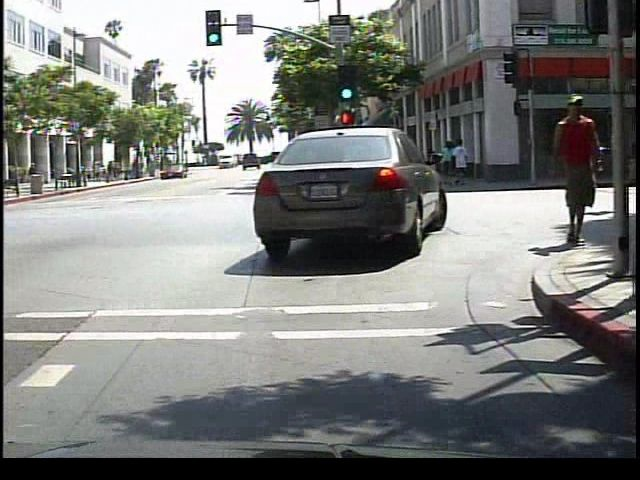person: (537, 89, 602, 258), (21, 158, 39, 189)
